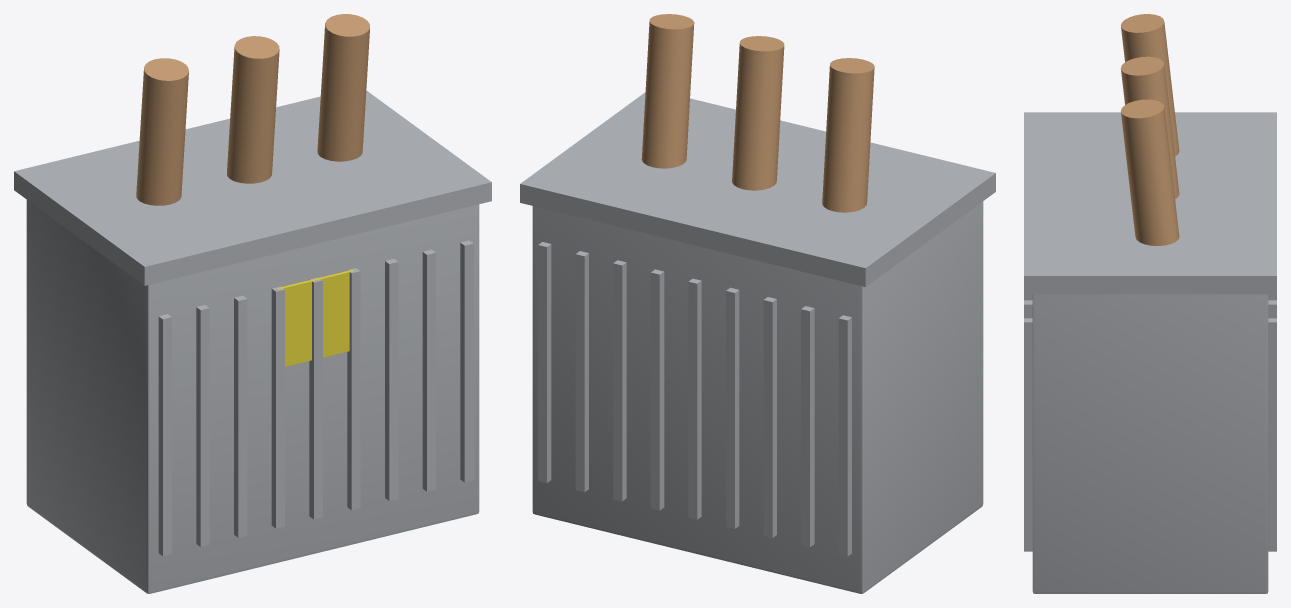
The model's file is PR_transformer.fbx.
The picture shows the model from 3 angles, left to right: view 1: azimuth 30°, elevation 25°; view 2: azimuth 150°, elevation 25°; view 3: azimuth 270°, elevation 25°; orthographic projection. The views are drawn at different scales.
Visible parts, largest first — view 1: PR_transformer; view 2: PR_transformer; view 3: PR_transformer.
Part boxes in pixels (box(x1,y1,x2,y2)): PR_transformer: box(14, 14, 491, 593); PR_transformer: box(520, 14, 995, 593); PR_transformer: box(1024, 14, 1276, 593).
Size of the model in its own units: 2.3 by 2.96 by 1.5.
